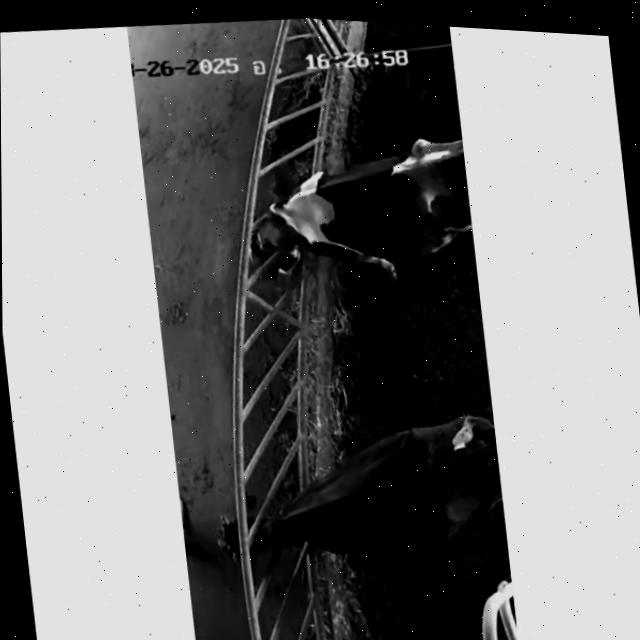eat: (200, 151, 386, 294), (192, 449, 382, 588)
